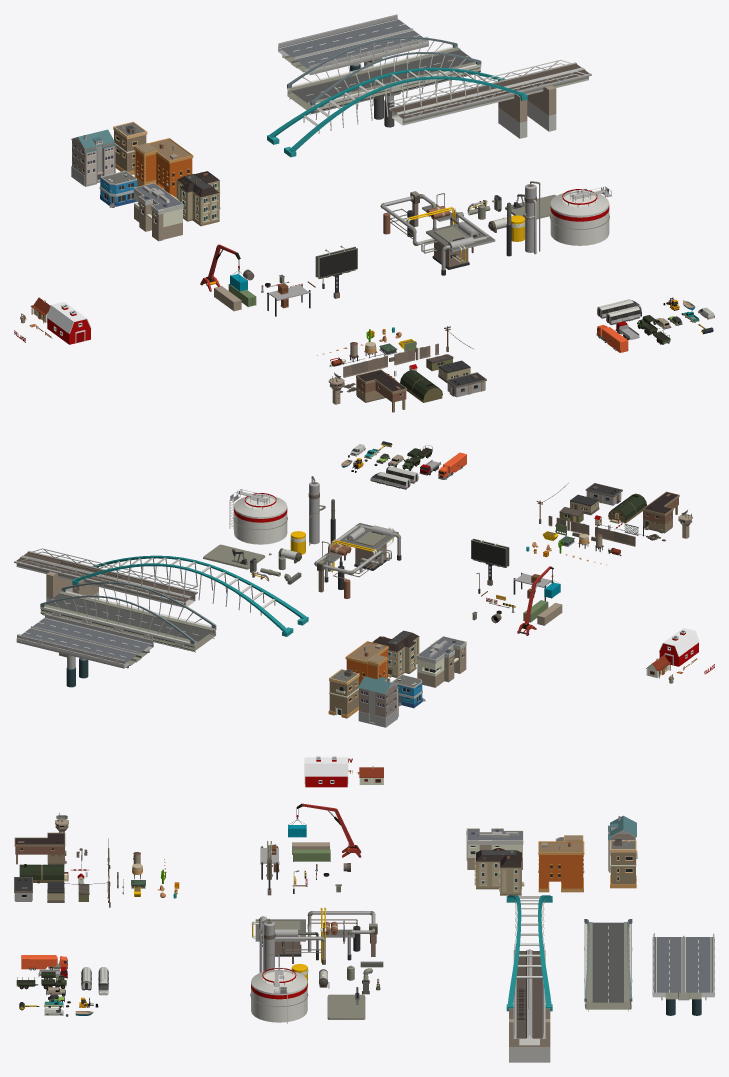
File: lowpoly_buildings_and_structures_collection.glb
3 views of the same model, one above another, from view 1: azimuth 30°, elevation 25°; view 2: azimuth 150°, elevation 25°; view 3: azimuth 270°, elevation 25° (orthographic). The views are drawn at different scales.
Parts seen in each view (by area): view 1: bridge1, bridge2, facility1, railwaybridge_arcs, bigtank1, railwaybridge_part1, railwaybridge_part2, railwaybridge_stands, bridge2_arcs, barn1, barrack5, billboard (+8 smaller); view 2: bridge2, bridge1, facility1, railwaybridge_arcs, bigtank1, railwaybridge_part1, railwaybridge_part2, bridge2_arcs, barrack5, barn1, billboard, ground_concrete (+11 smaller); view 3: bridge2, bridge1, facility1, bigtank1, railwaybridge_arcs, railwaybridge_part1, barn1, barrack5, railwaybridge_stands, building3_top, ground_concrete, railwaybridge_part2 (+9 smaller).
Boxes of the visible parts, left/top/right/bottom form: bridge1: left=278, top=14, right=428, bottom=75; bridge2: left=287, top=46, right=481, bottom=114; facility1: left=380, top=191, right=495, bottom=275; railwaybridge_arcs: left=267, top=67, right=527, bottom=157; bigtank1: left=549, top=191, right=609, bottom=245; railwaybridge_part1: left=474, top=59, right=591, bottom=104; railwaybridge_part2: left=389, top=82, right=490, bottom=125; railwaybridge_stands: left=498, top=85, right=556, bottom=138; bridge2_arcs: left=287, top=36, right=481, bottom=105; barn1: left=46, top=302, right=91, bottom=344; barrack5: left=356, top=369, right=406, bottom=412; billboard: left=315, top=246, right=357, bottom=298; bridge2: left=40, top=590, right=216, bottom=652; bridge1: left=16, top=613, right=153, bottom=668; facility1: left=314, top=523, right=401, bottom=598; railwaybridge_arcs: left=72, top=555, right=308, bottom=636; bigtank1: left=233, top=494, right=287, bottom=544; railwaybridge_part1: left=14, top=548, right=120, bottom=589; railwaybridge_part2: left=106, top=568, right=197, bottom=607; bridge2_arcs: left=40, top=581, right=216, bottom=644; barrack5: left=642, top=491, right=679, bottom=533; barn1: left=659, top=628, right=699, bottom=666; billboard: left=471, top=538, right=509, bottom=585; ground_concrete: left=203, top=544, right=265, bottom=569; bridge2: left=584, top=922, right=632, bottom=1011; bridge1: left=652, top=933, right=714, bottom=1000; facility1: left=251, top=907, right=377, bottom=964; bigtank1: left=250, top=969, right=308, bottom=1022; railwaybridge_arcs: left=506, top=895, right=552, bottom=1011; railwaybridge_part1: left=513, top=986, right=545, bottom=1045; barn1: left=304, top=756, right=348, bottom=787; barrack5: left=14, top=832, right=66, bottom=864; railwaybridge_stands: left=509, top=1008, right=550, bottom=1062; building3_top: left=538, top=841, right=584, bottom=862; ground_concrete: left=327, top=994, right=365, bottom=1019; railwaybridge_part2: left=513, top=943, right=545, bottom=990.
Size of what is drawn, in the model's own units: 19500 by 2281 by 18584.
1 material, 1 textured.
